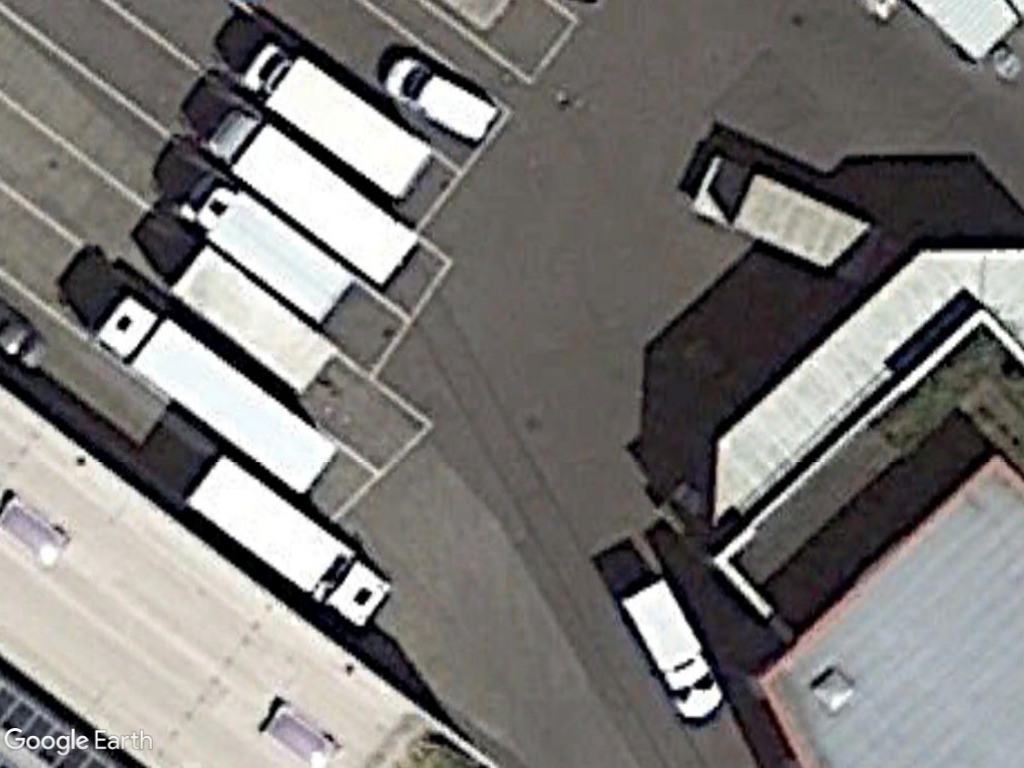truck: (85, 282, 343, 500), (193, 106, 423, 294), (178, 450, 401, 630), (238, 35, 438, 195), (171, 164, 357, 319), (611, 570, 728, 726)
van: (375, 52, 505, 150)
